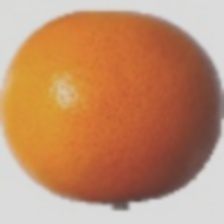grapes: (1, 32, 192, 196)
